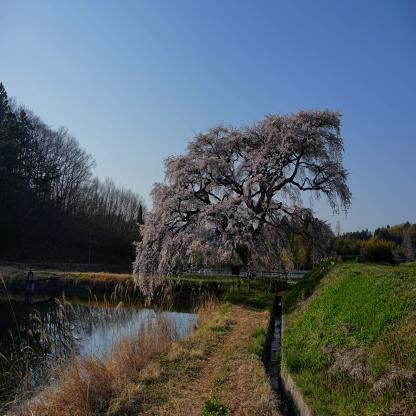EdohiganSakura: (131, 109, 354, 304)
